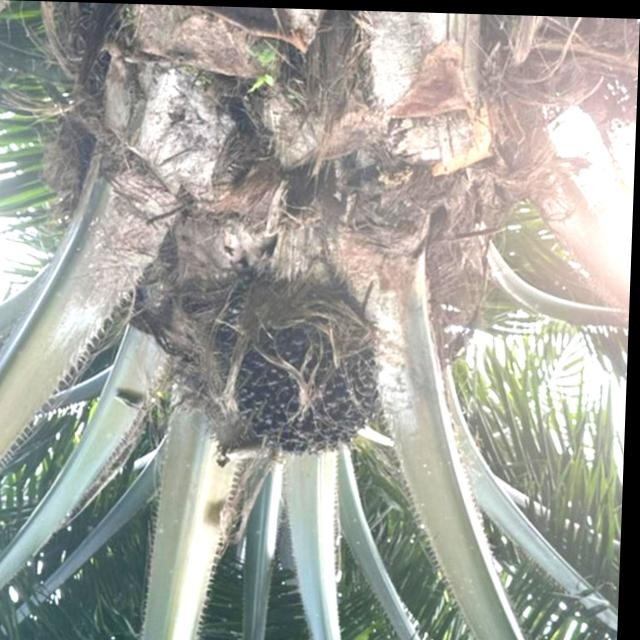unripe: (190, 259, 400, 469)
